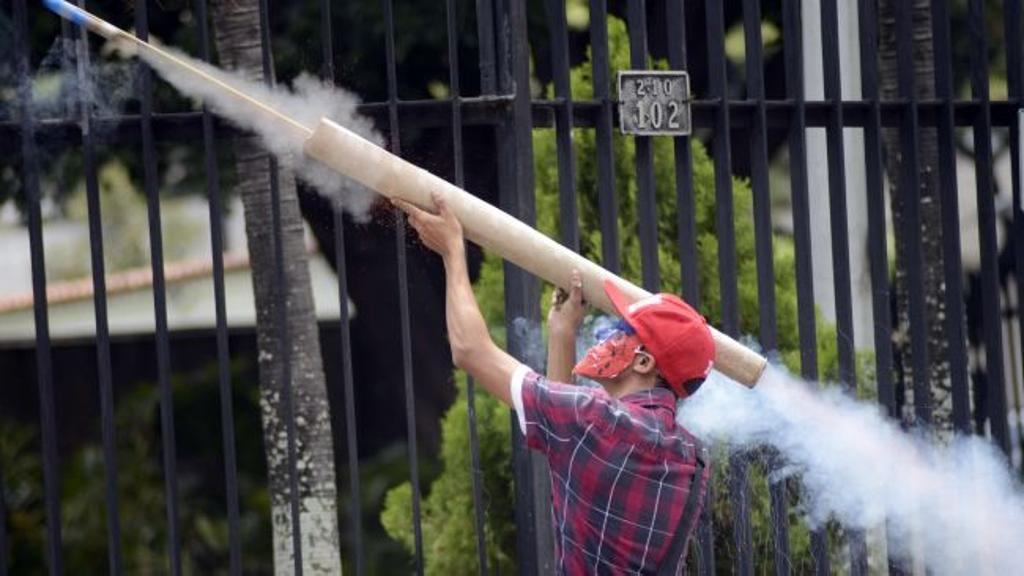face: (575, 325, 635, 385)
